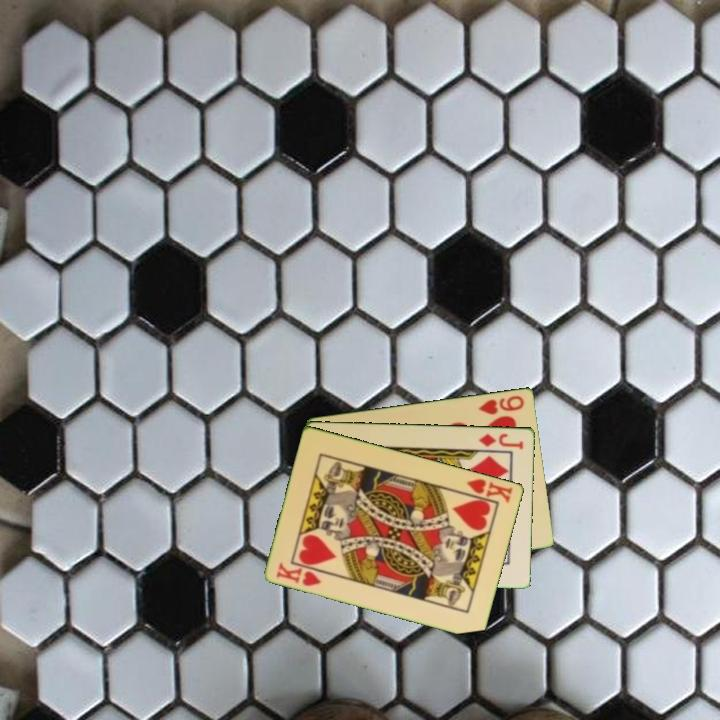9h: (475, 392, 527, 417)
Jd: (476, 429, 526, 452)
Kh: (458, 475, 516, 506), (273, 559, 325, 589)
